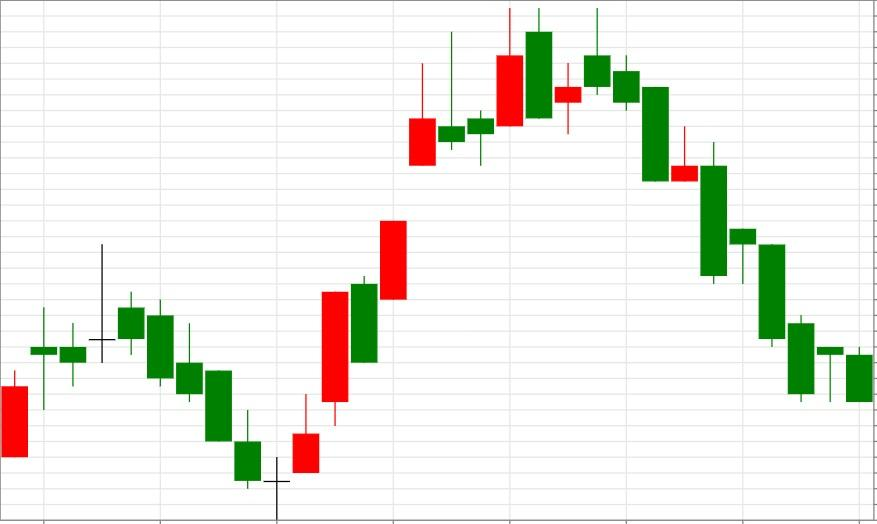morning_star_rise: (118, 291, 320, 520)
